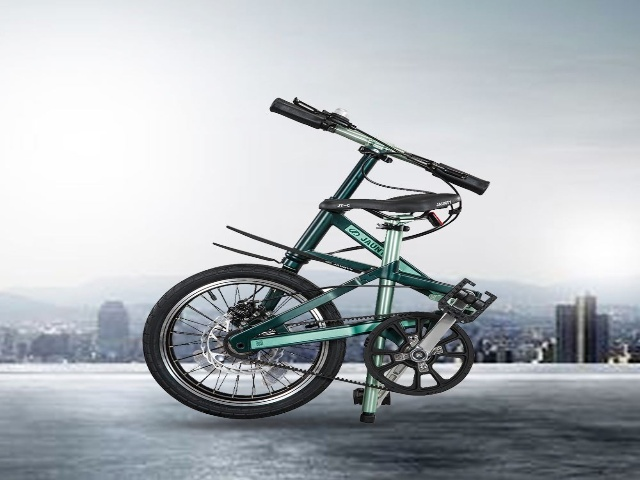bike: (134, 83, 525, 414)
